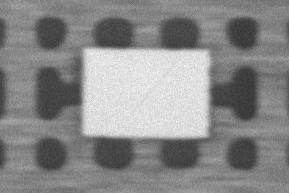DIE_CRACK: (198, 36, 274, 75)
